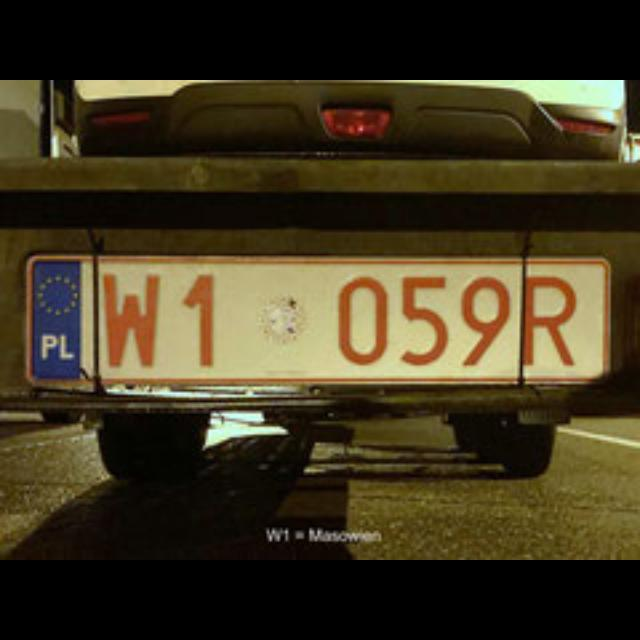pl_license_plate: (24, 256, 608, 378)
